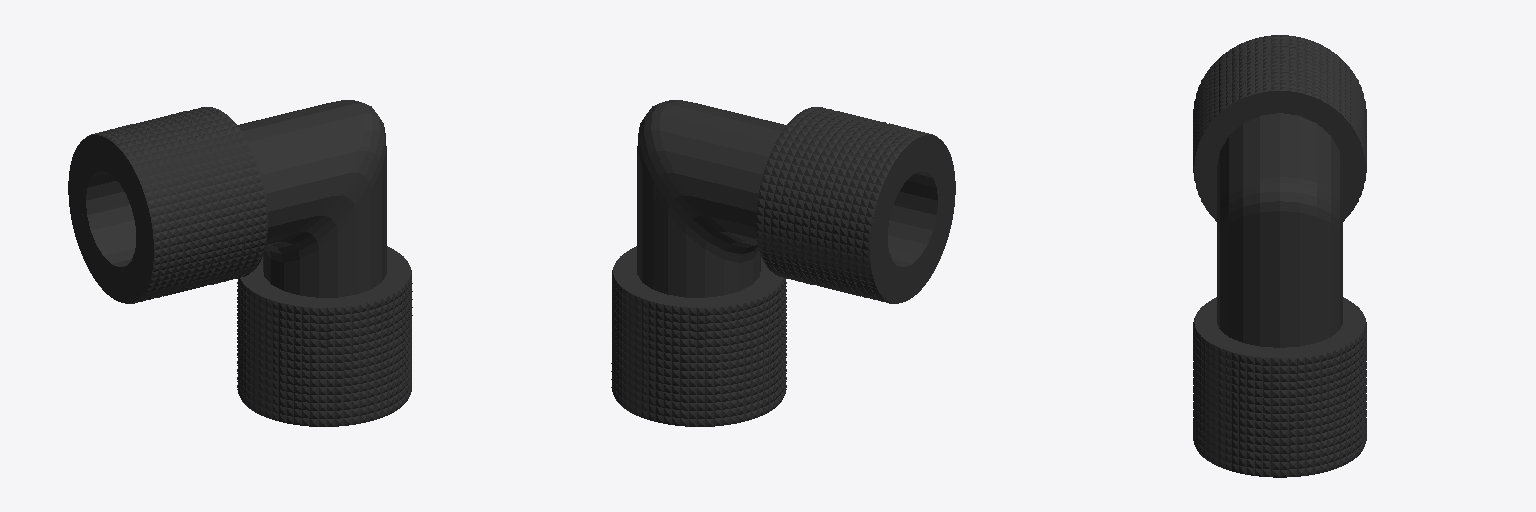
The model's file is rurka_nova.obj.
3 views of the same model, side by side, from view 1: azimuth 30°, elevation 25°; view 2: azimuth 150°, elevation 25°; view 3: azimuth 270°, elevation 25° (orthographic).
Visible parts, largest first — view 1: BezierCircle.015_Mesh.013; view 2: BezierCircle.015_Mesh.013; view 3: BezierCircle.015_Mesh.013.
Boxes of the visible parts, x1,y1,x2,y2 form: BezierCircle.015_Mesh.013: [68, 100, 412, 426]; BezierCircle.015_Mesh.013: [611, 100, 955, 426]; BezierCircle.015_Mesh.013: [1193, 35, 1366, 477].
Bounding box in the file's own units: 0.313 × 0.313 × 0.163.